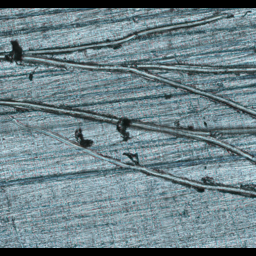d: (0, 9, 255, 208)
